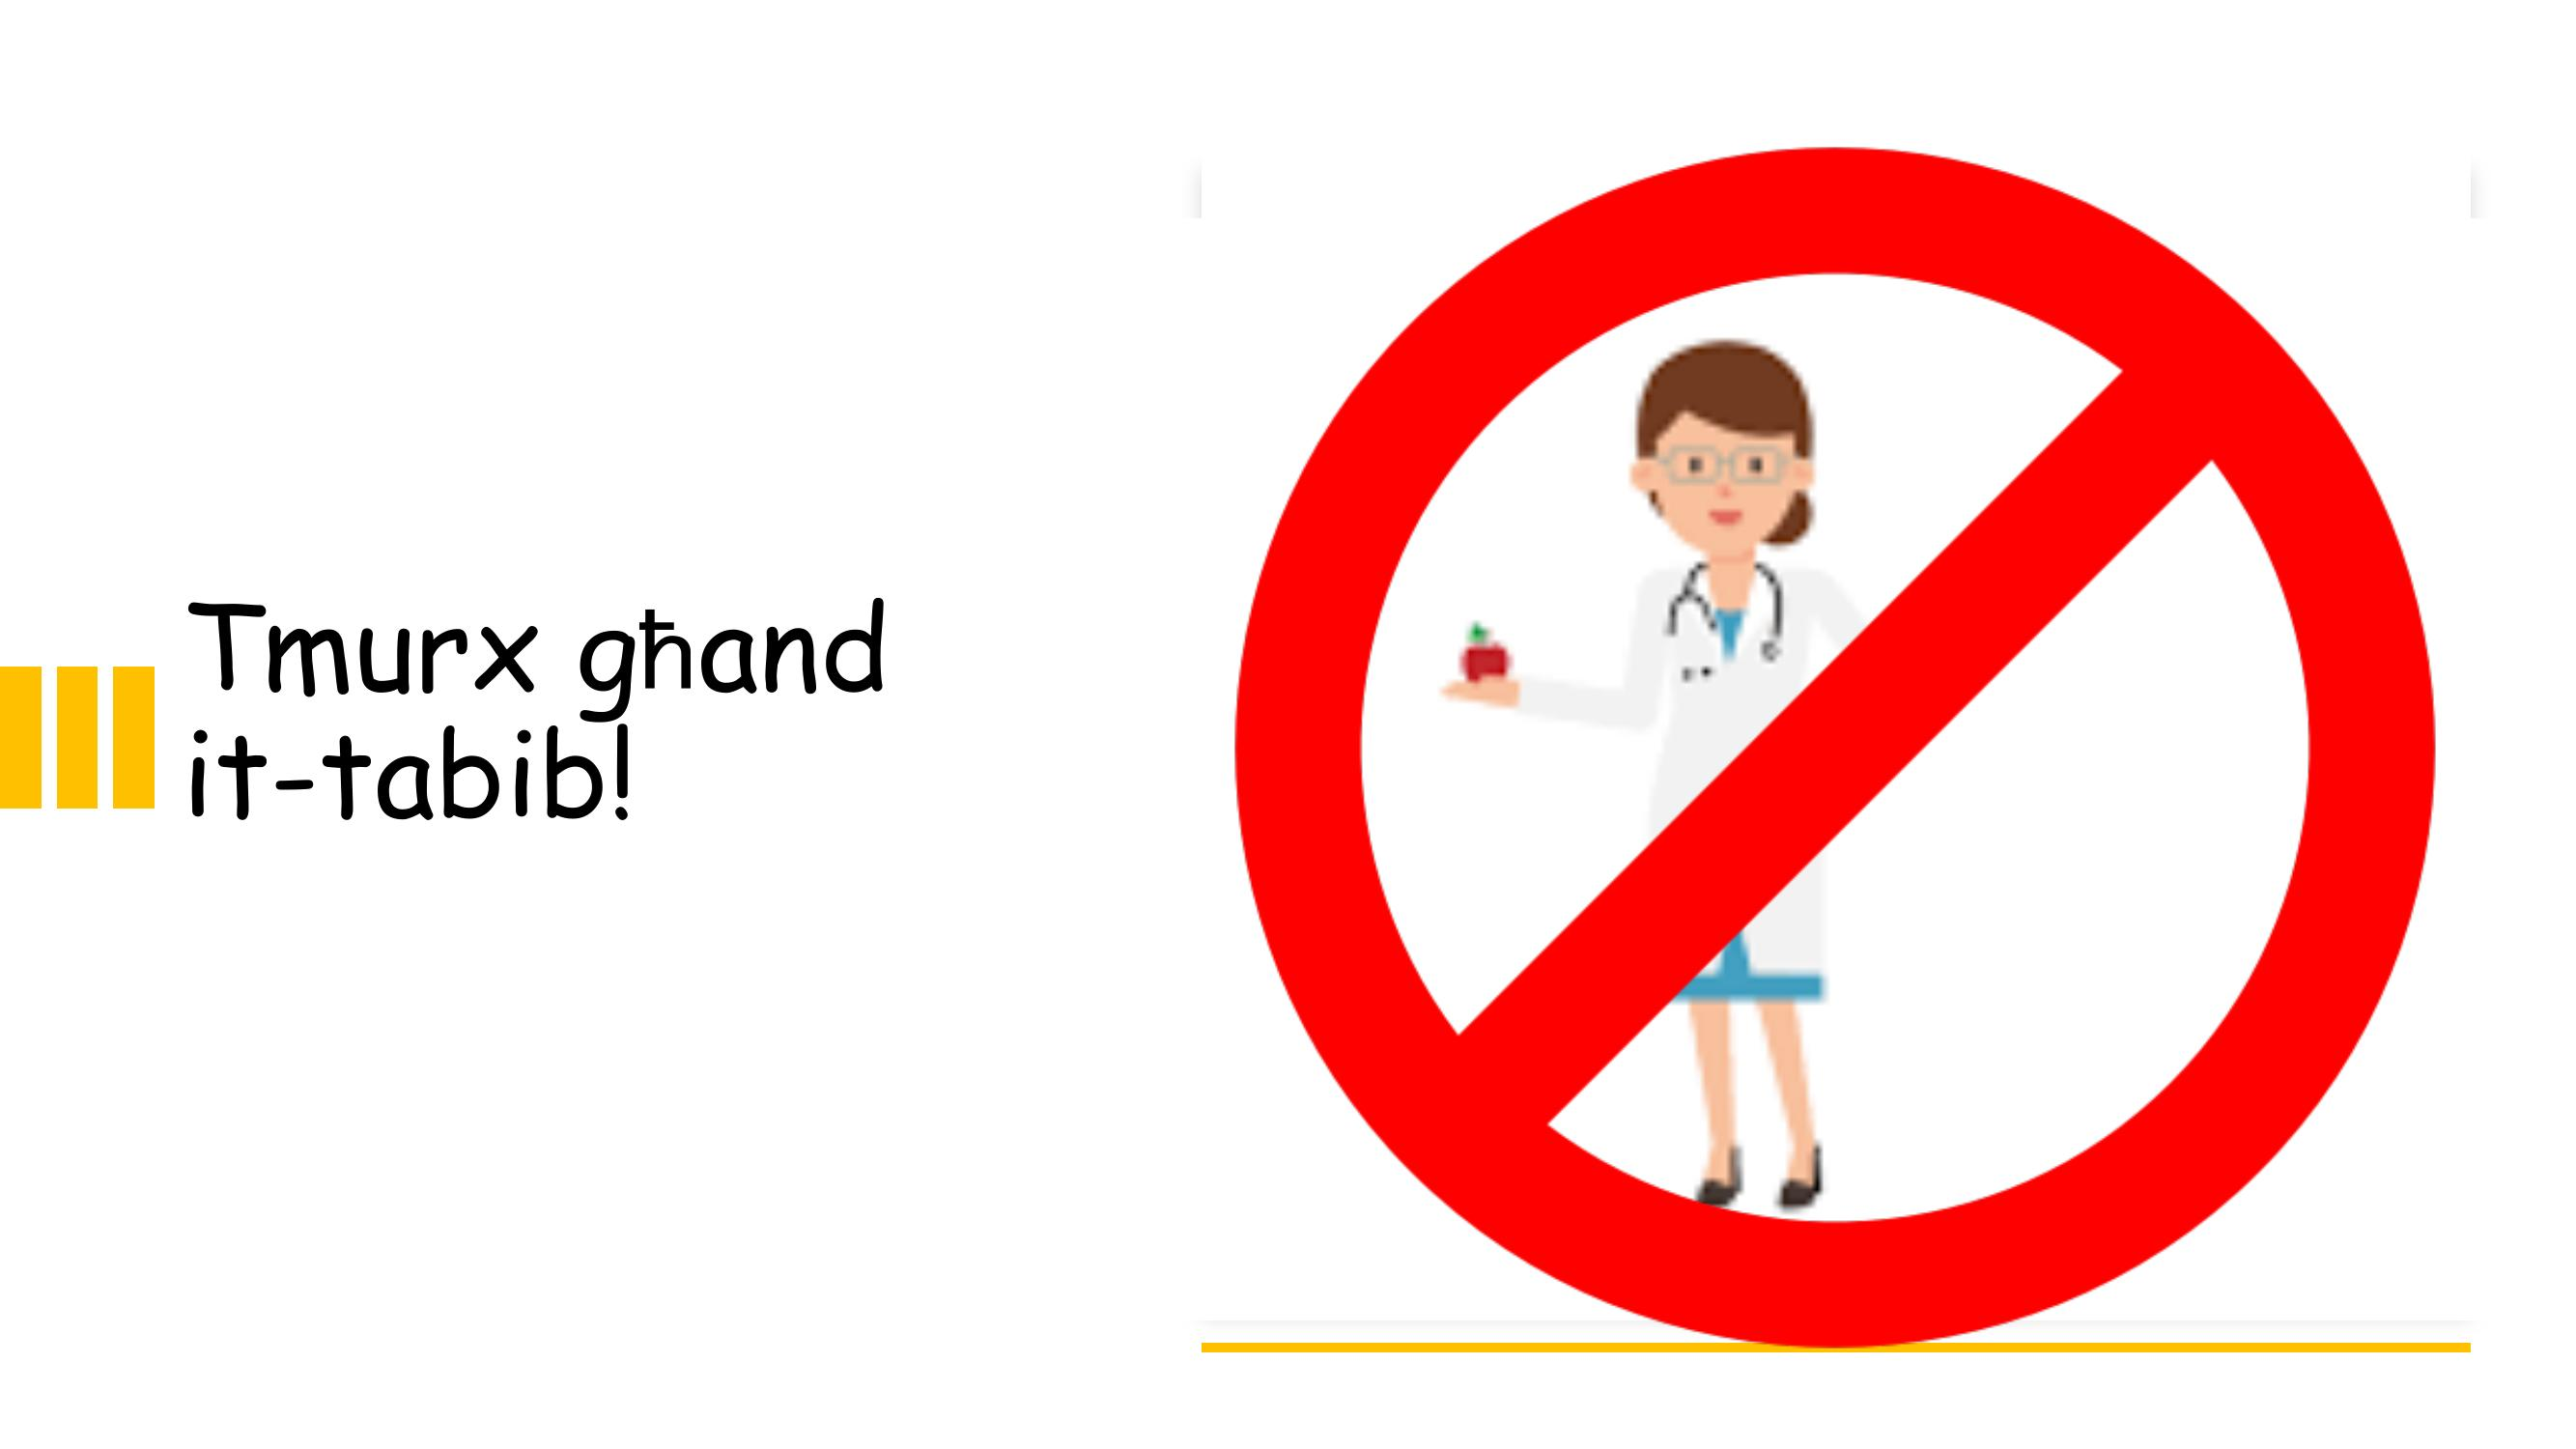text: (161, 580, 927, 842)
